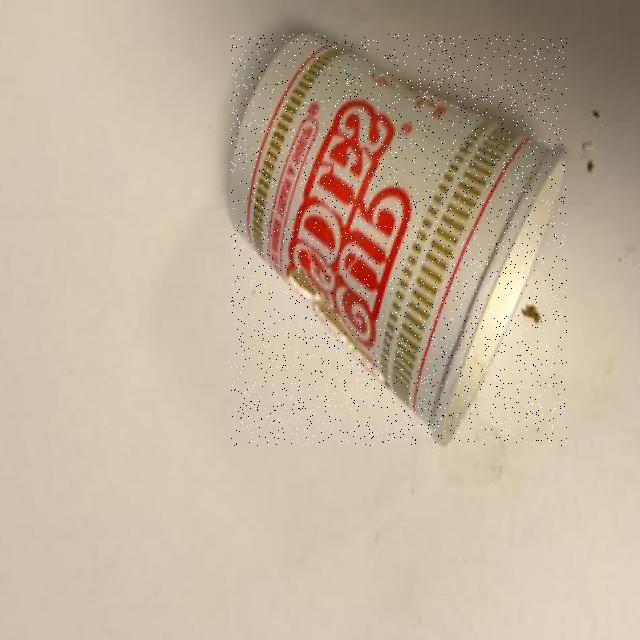paper: (231, 34, 567, 446)
